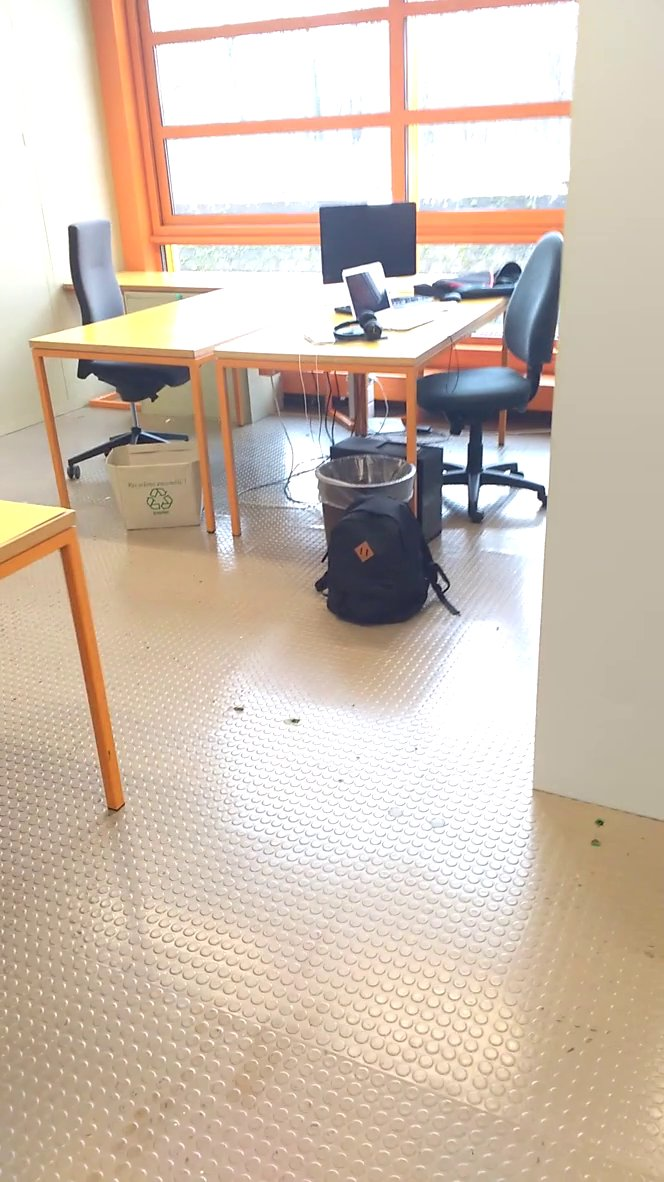bag: (310, 492, 464, 641)
bin: (308, 453, 429, 518)
box: (96, 434, 224, 540)
chair: (388, 213, 579, 508), (57, 203, 193, 403)
laptop: (335, 257, 449, 334)
